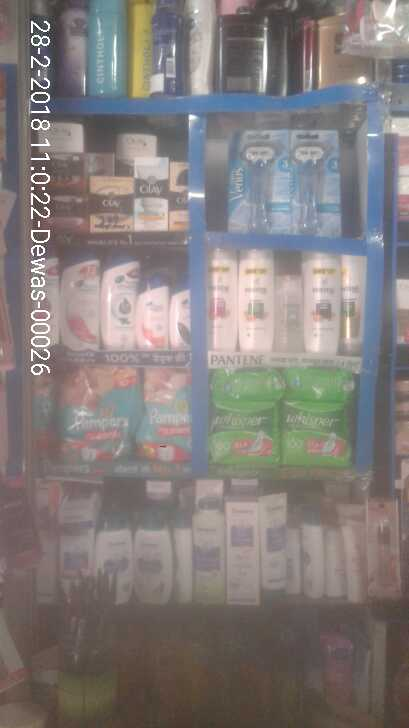venus: (232, 126, 293, 233), (293, 128, 342, 232)
